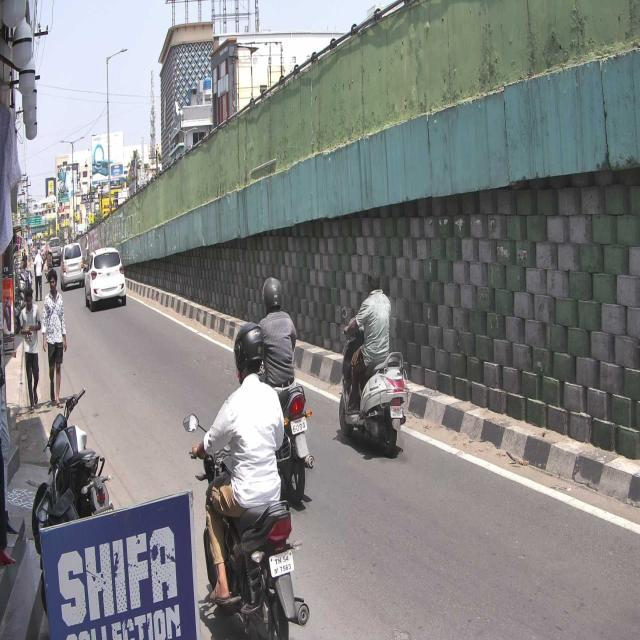single_rider: (186, 320, 310, 640), (338, 267, 411, 451)
